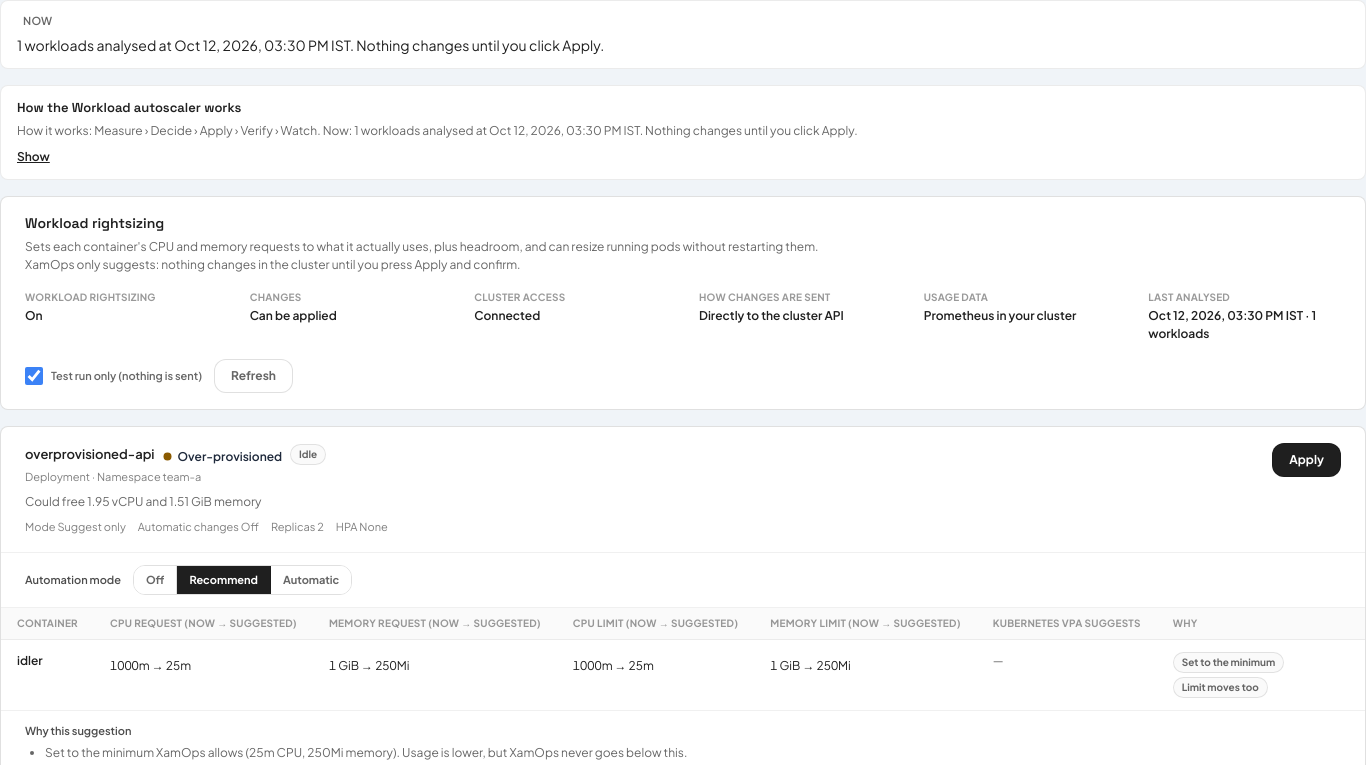
Scenario: write-gate contract (backend fixture → adapter → Apply) › a 403 on a stale page is shown in words, greys Apply and re-reads the gates
Click the button with aria-label "Apply overprovisioned-api": x=1307, y=460 [1272,443,1341,477]
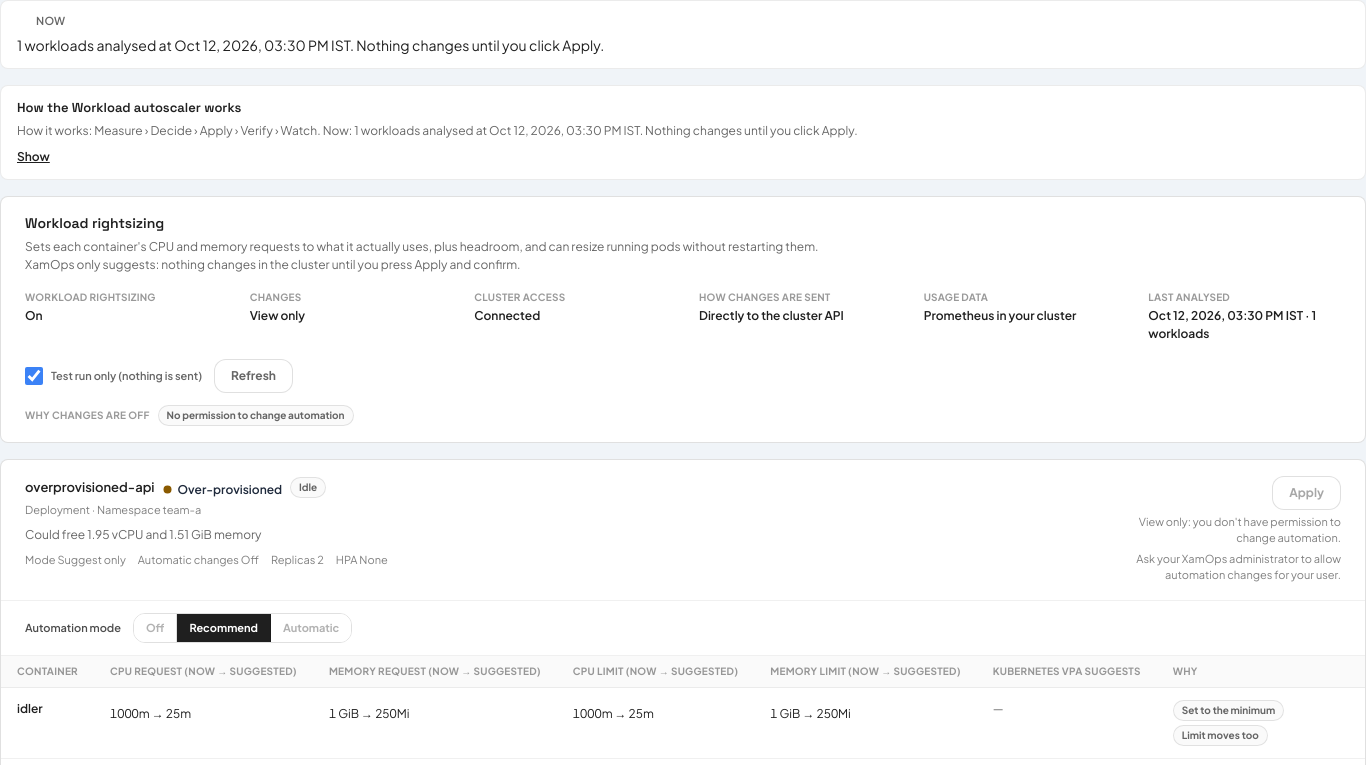
expect the button with aria-label "Apply overprovisioned-api" is disabled: met, box [1272,476,1341,510]
